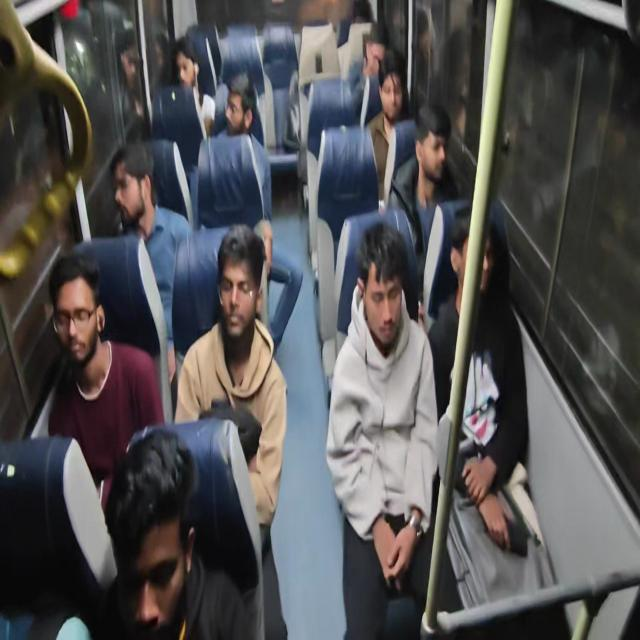person: (104, 415, 197, 638), (357, 215, 412, 358), (209, 224, 267, 353), (48, 249, 106, 376), (444, 202, 503, 293), (108, 134, 159, 230), (413, 96, 453, 180), (162, 27, 205, 99), (224, 62, 258, 140), (381, 51, 404, 118), (360, 24, 387, 73)
